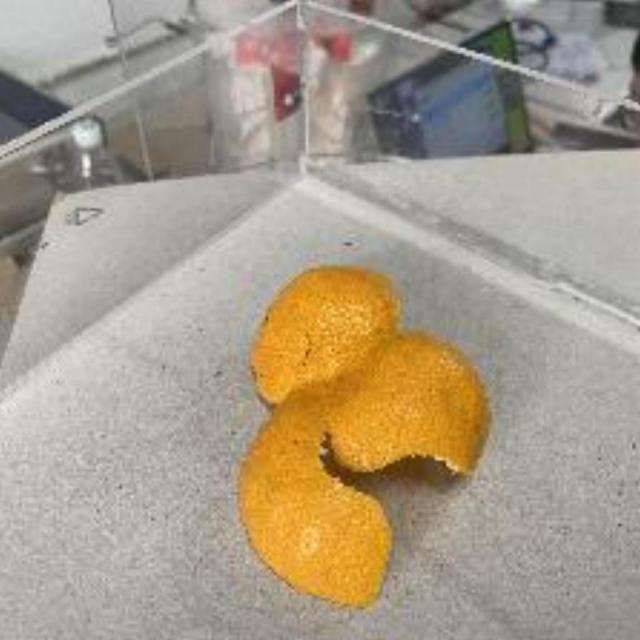orange peel: (240, 260, 496, 612)
